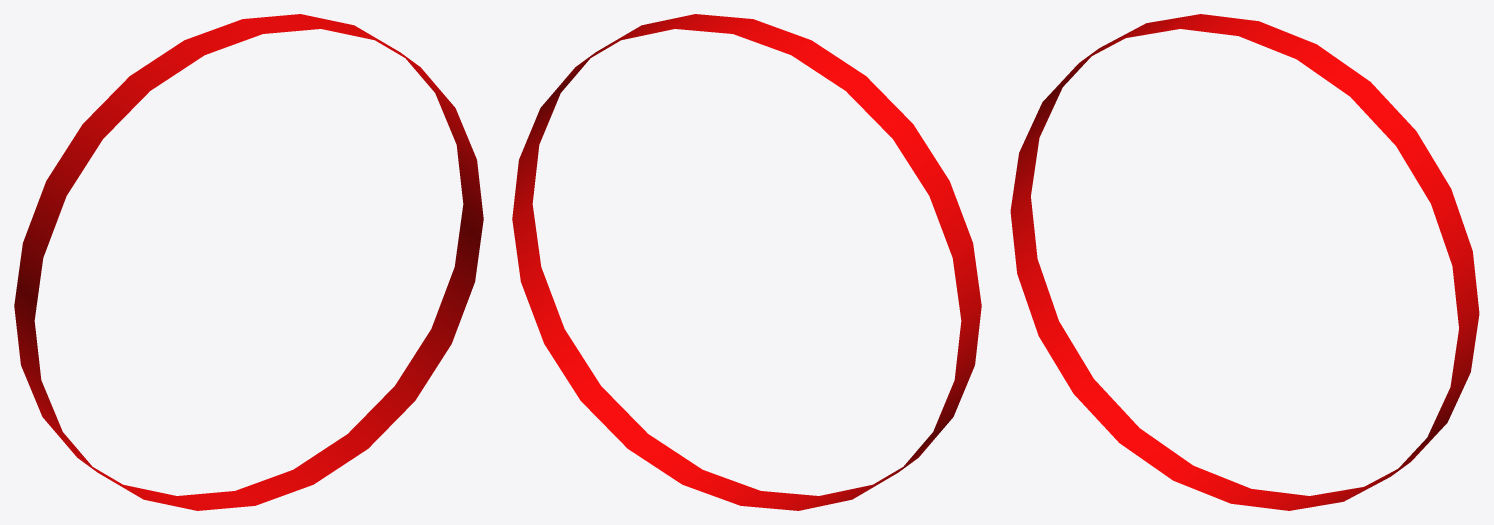
File: original-31.obj
3 renders of one model, left to right at view 1: azimuth 30°, elevation 25°; view 2: azimuth 150°, elevation 25°; view 3: azimuth 330°, elevation 25°, orthographic.
Parts seen in each view (by area): view 1: mesh2/mesh2-geometry/material_0#mesh2-geometry; view 2: mesh2/mesh2-geometry/material_0#mesh2-geometry; view 3: mesh2/mesh2-geometry/material_0#mesh2-geometry.
Boxes of the visible parts, <box> form: mesh2/mesh2-geometry/material_0#mesh2-geometry: <box>14,14,483,510</box>; mesh2/mesh2-geometry/material_0#mesh2-geometry: <box>512,14,981,510</box>; mesh2/mesh2-geometry/material_0#mesh2-geometry: <box>1010,14,1479,510</box>.
Bounding box in the file's own units: 0.8062 × 0.8062 × 0.0635.
